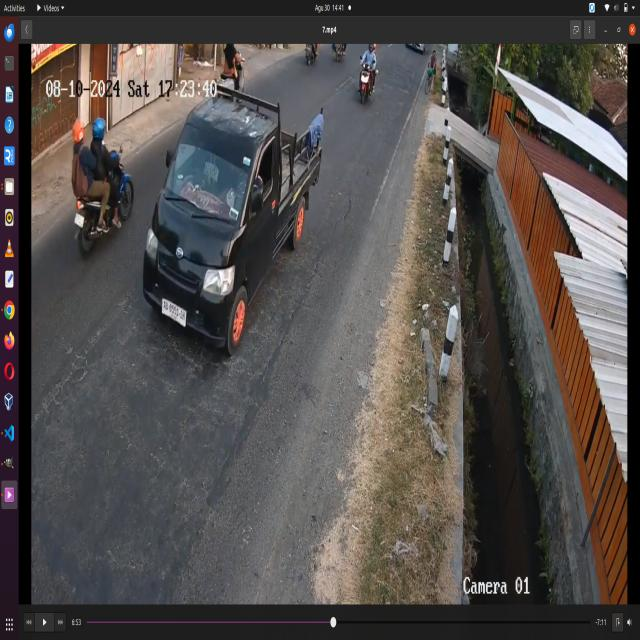person_without_seatbelt: (236, 167, 266, 220)
